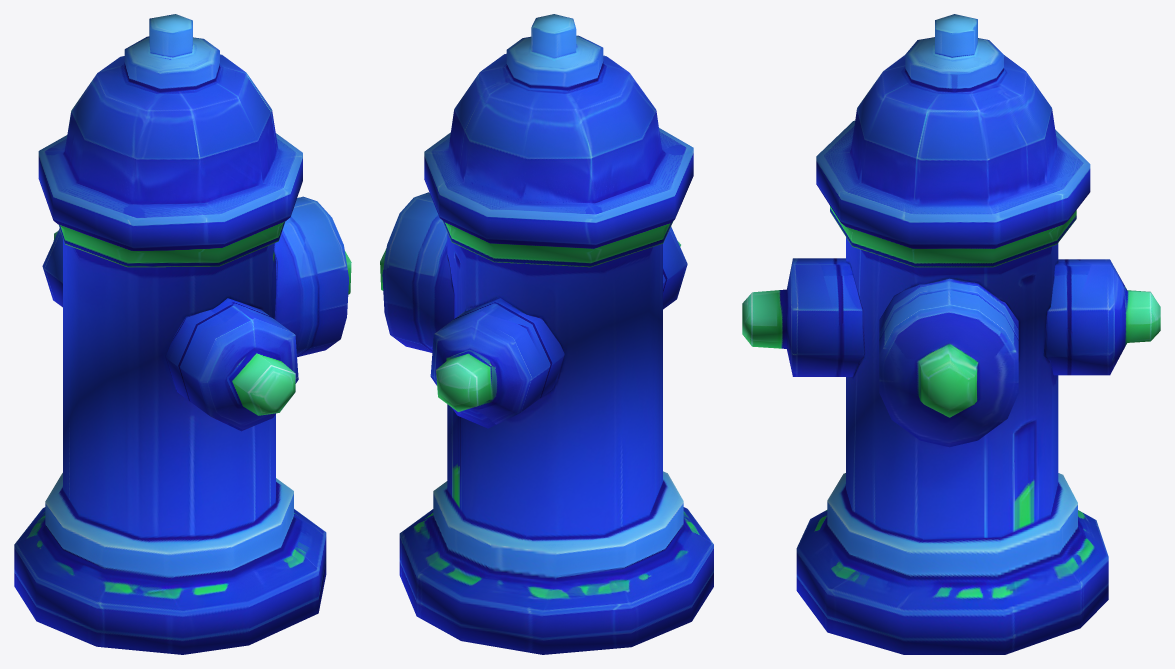
File: fire_hydrant.glb
3 views of the same model, side by side, from view 1: azimuth 30°, elevation 25°; view 2: azimuth 150°, elevation 25°; view 3: azimuth 270°, elevation 25° (orthographic).
Visible parts, largest first — view 1: tripo_node_327f4833-319e-455f-b205-e95d51ca3b4e; view 2: tripo_node_327f4833-319e-455f-b205-e95d51ca3b4e; view 3: tripo_node_327f4833-319e-455f-b205-e95d51ca3b4e.
Part boxes in pixels (bbox=[...]): tripo_node_327f4833-319e-455f-b205-e95d51ca3b4e: bbox=[14, 14, 351, 654]; tripo_node_327f4833-319e-455f-b205-e95d51ca3b4e: bbox=[380, 14, 713, 654]; tripo_node_327f4833-319e-455f-b205-e95d51ca3b4e: bbox=[742, 14, 1160, 654].
Bounding box in the file's own units: 0.5645 × 0.998 × 0.6621.
Materials: 1 (1 with a texture image).
